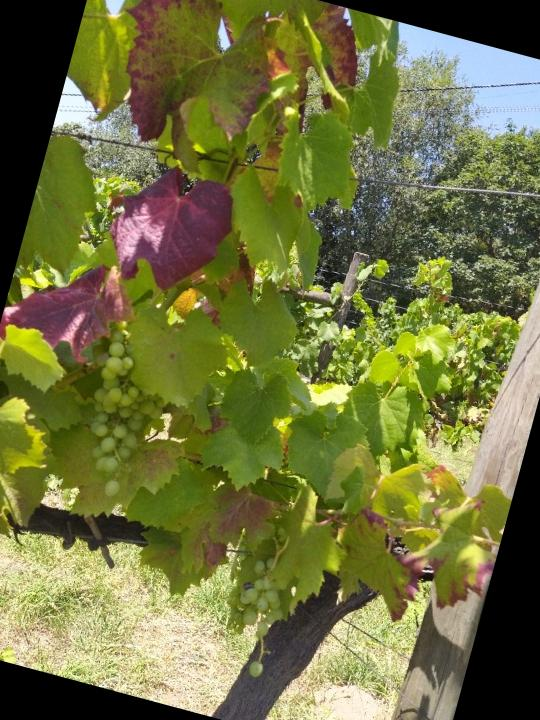grape: (53, 315, 190, 517)
